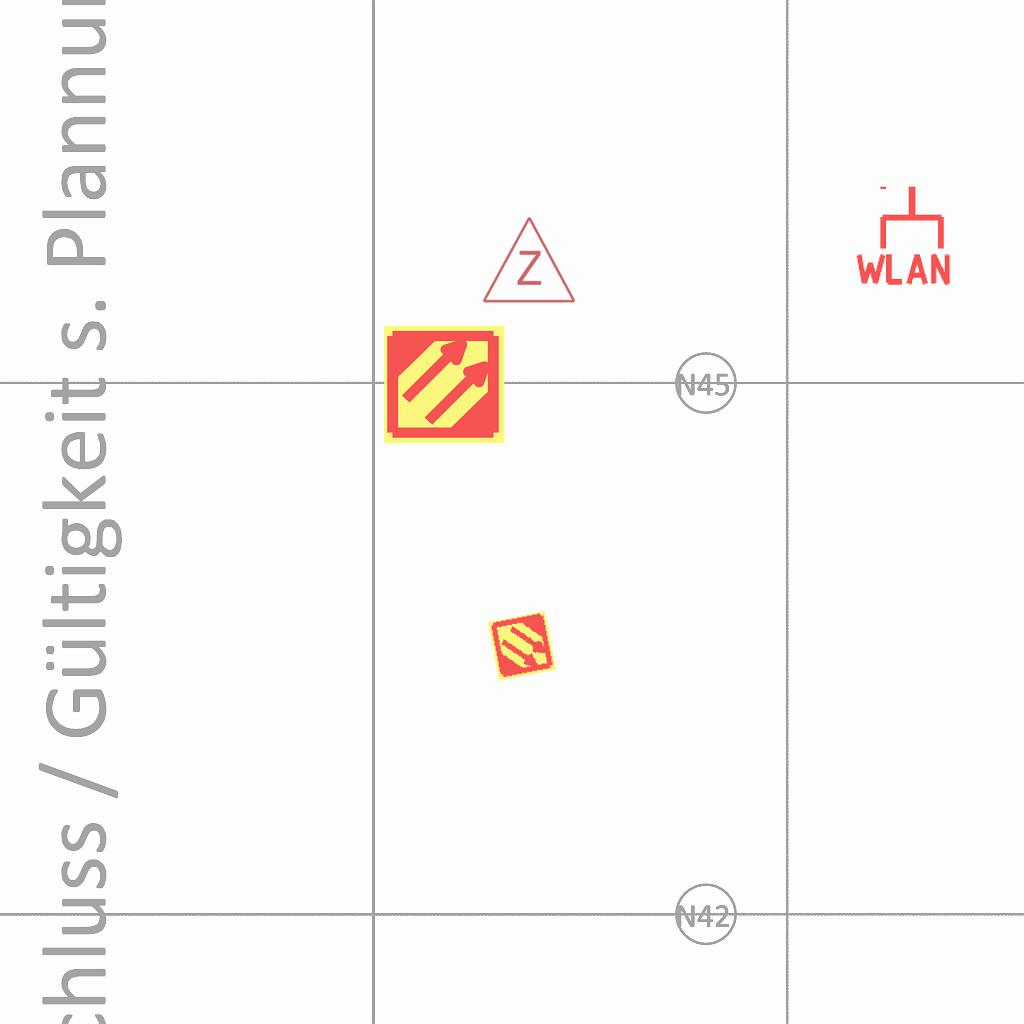ASR_Ansaugrauchmelder: (382, 322, 507, 447), (485, 609, 559, 683)
WLAN: (851, 182, 955, 287)
Zimmersignalleuchte: (479, 210, 577, 310)
